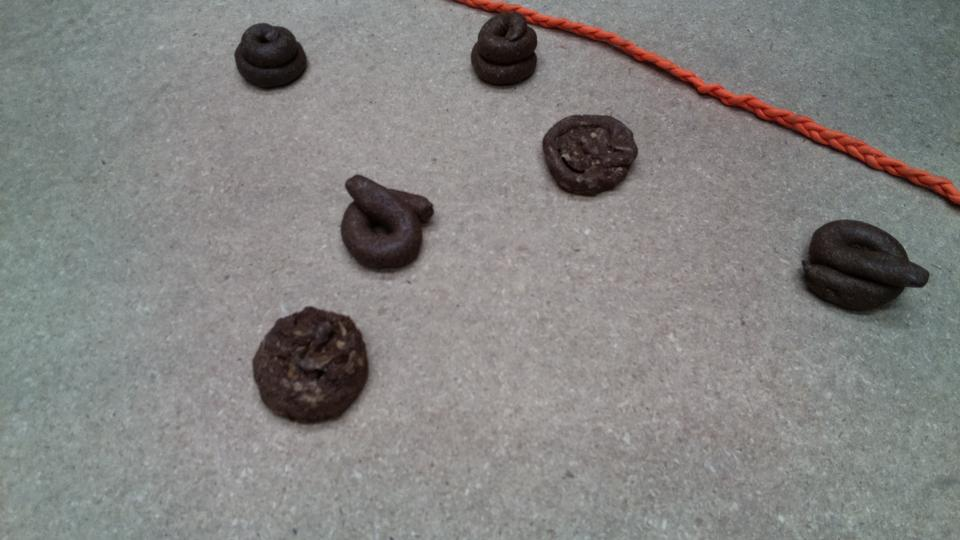poop: (246, 301, 374, 430), (796, 215, 933, 318), (334, 172, 442, 277), (538, 108, 643, 201), (230, 21, 313, 95), (470, 10, 541, 92)
rope: (477, 1, 960, 198)
